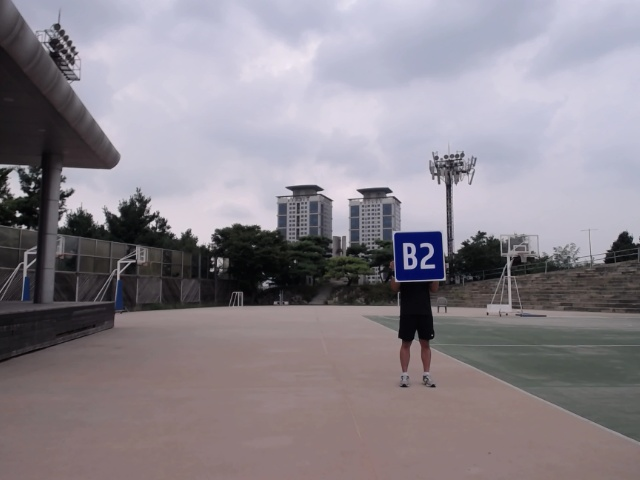delivery_b2: (391, 230, 445, 284)
